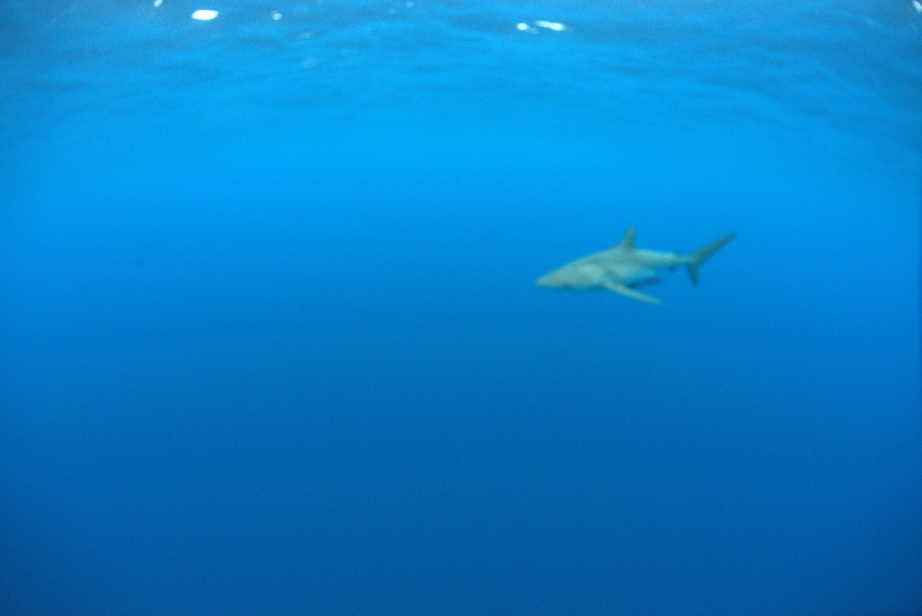Sedoso: (514, 214, 754, 311)
